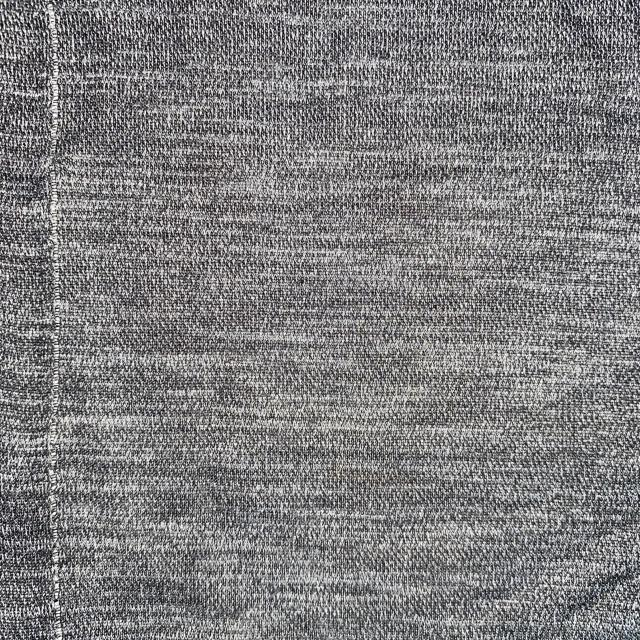Line: (44, 2, 65, 640)
